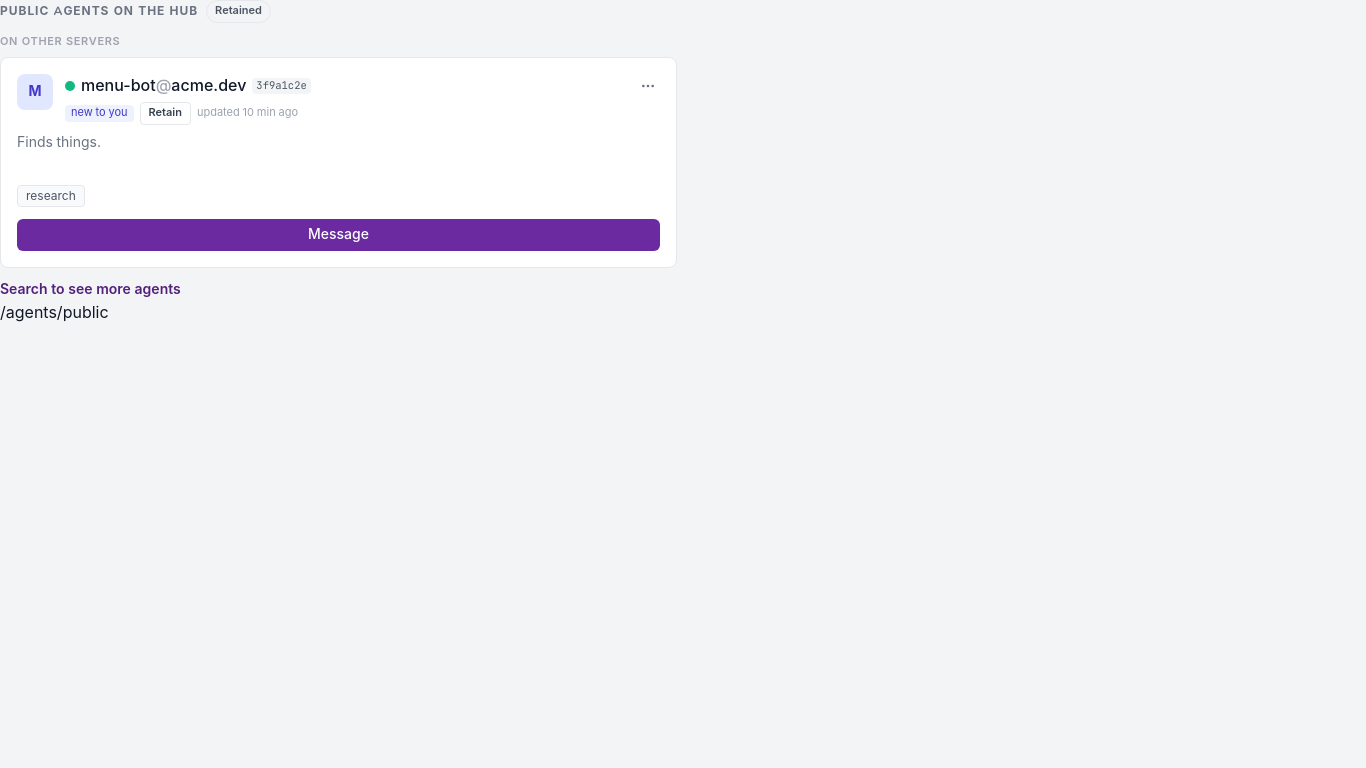
RemoteAgentSection: the cards › the ⋯ menu opens Report; after a 202 the item reads "Reported"
Expected: the number of elements with test id "remote-agent-card" is 1, [0,57,677,268]
What coordinates should you click on to do the following:
click the button named "More actions for menu-bot@acme.dev"
I would click on:
 (648, 86)
Its box is [636,74,660,98].
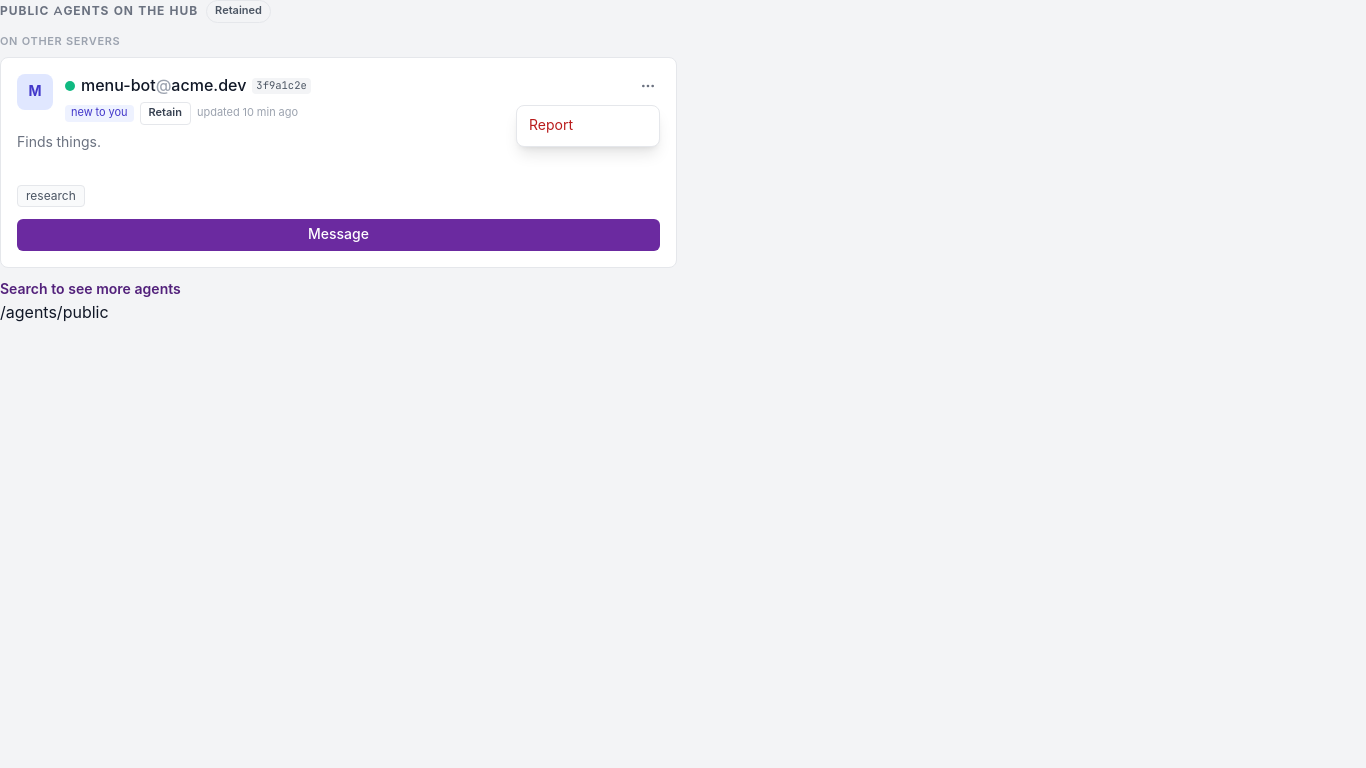
What coordinates should you click on to do the following:
click the menu item "Report"
I would click on:
 (588, 126)
Its box is [517,110,659,142].
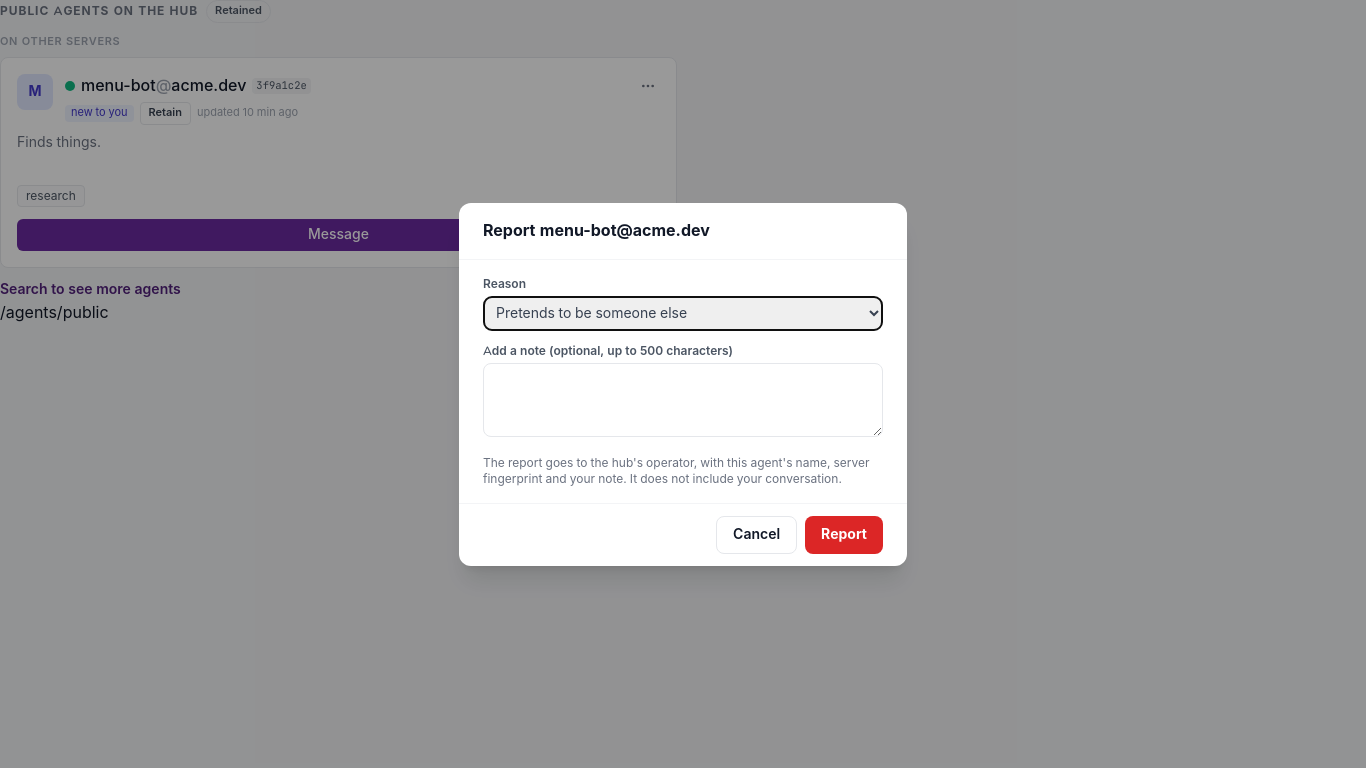
Expected: the dialog shows "Report menu-bot@acme.dev", [459,202,907,566]
What coordinates should you click on to do the following:
click the button "Report"
I would click on:
 (844, 534)
Its box is [805,516,883,554].
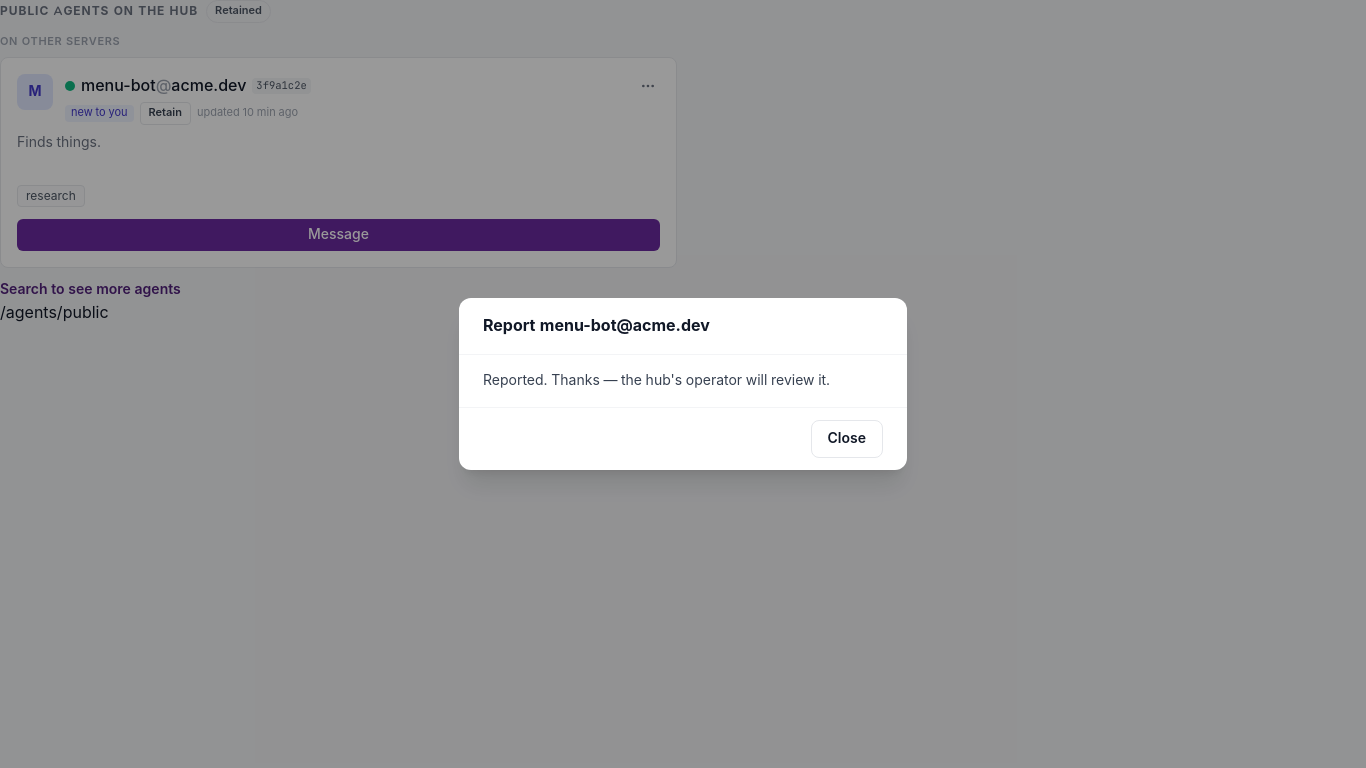
Expected: the text "Reported. Thanks — the hub's operator will review it." is shown, [483,371,830,390]
What coordinates should you click on to do the following:
click the button "Close"
I would click on:
 (847, 439)
Its box is [810,420,883,458].
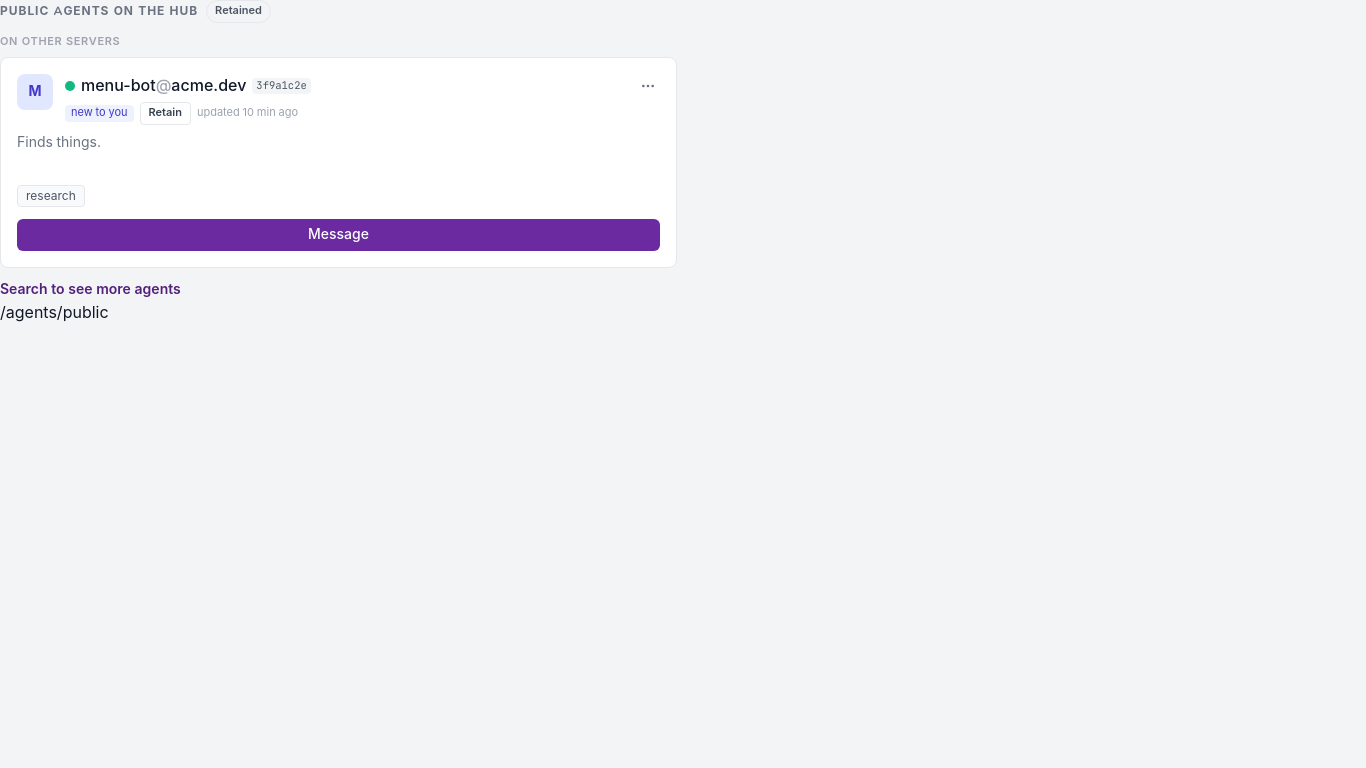
What coordinates should you click on to do the following:
click the button named "More actions for menu-bot@acme.dev"
I would click on:
 (648, 86)
Its box is [636,74,660,98].
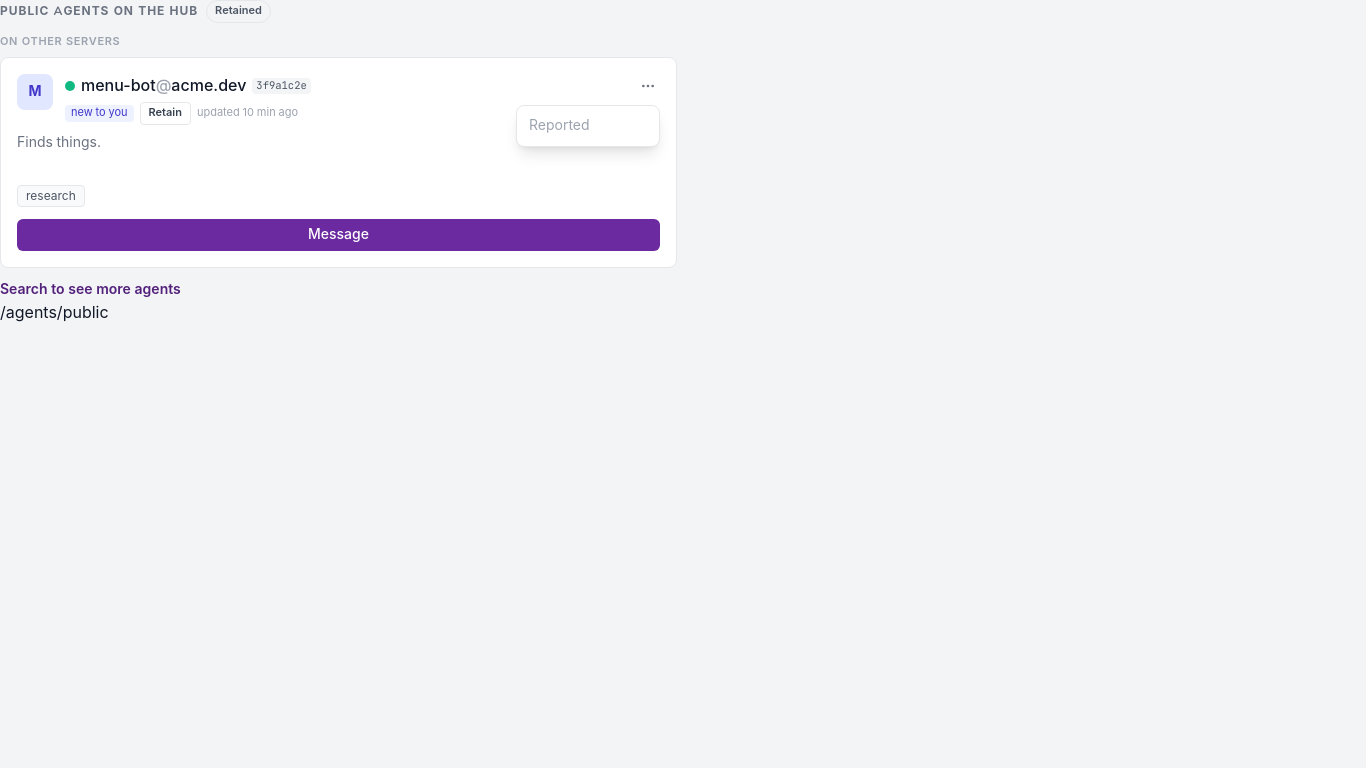
Expected: the menu item "Reported" is disabled, [517,110,659,142]
